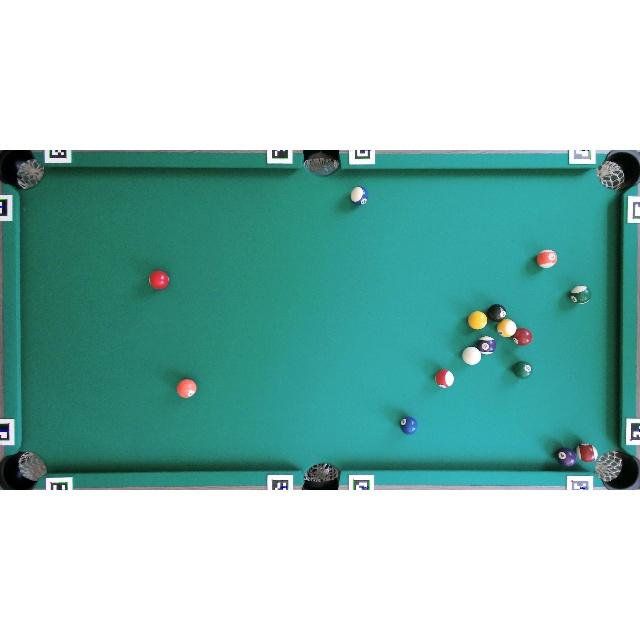cue ball: (462, 347, 482, 365)
other: (570, 285, 592, 304), (176, 378, 196, 398), (149, 270, 169, 290), (557, 447, 577, 467), (350, 186, 369, 206), (577, 443, 597, 462), (512, 328, 533, 346), (435, 369, 454, 388), (468, 311, 487, 330), (537, 250, 557, 268), (476, 336, 496, 354), (487, 304, 507, 322), (400, 415, 418, 434), (497, 319, 516, 337), (512, 361, 532, 378)
